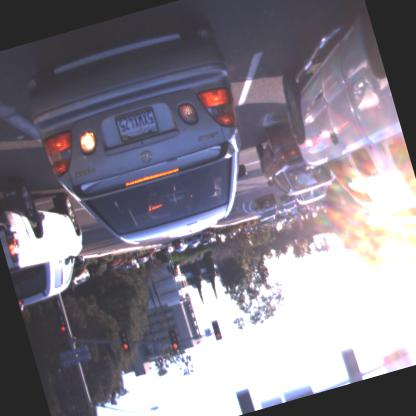trafficlight: (117, 326, 133, 354), (166, 327, 182, 353), (56, 308, 70, 336), (209, 318, 223, 342), (173, 262, 179, 274), (214, 268, 220, 276)
